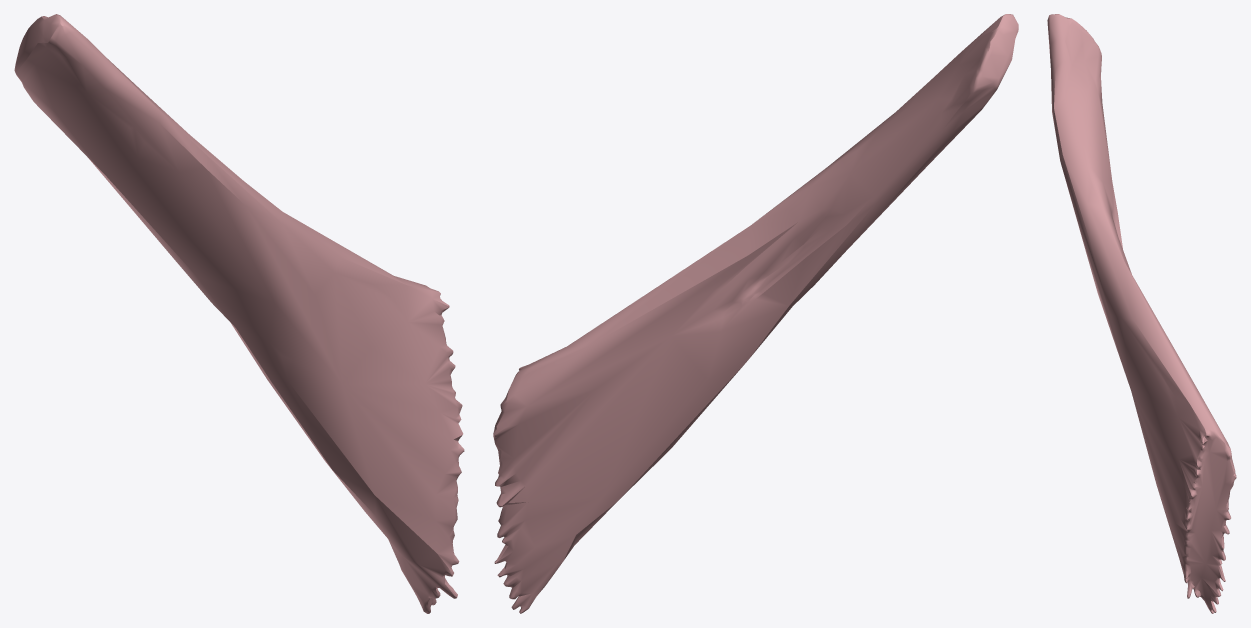
Rendered from fma43887_fj1404m.glb.
3 views of the same model, side by side, from view 1: azimuth 30°, elevation 25°; view 2: azimuth 150°, elevation 25°; view 3: azimuth 270°, elevation 25° (orthographic). The views are drawn at different scales.
Visible parts, largest first — view 1: FMA43887_FJ1404M; view 2: FMA43887_FJ1404M; view 3: FMA43887_FJ1404M.
Boxes of the visible parts, x1,y1,x2,y2 form: FMA43887_FJ1404M: [14, 14, 464, 613]; FMA43887_FJ1404M: [493, 14, 1018, 613]; FMA43887_FJ1404M: [1047, 14, 1236, 613].
Size of the model in its own units: 0.0854 by 0.1213 by 0.0451.
